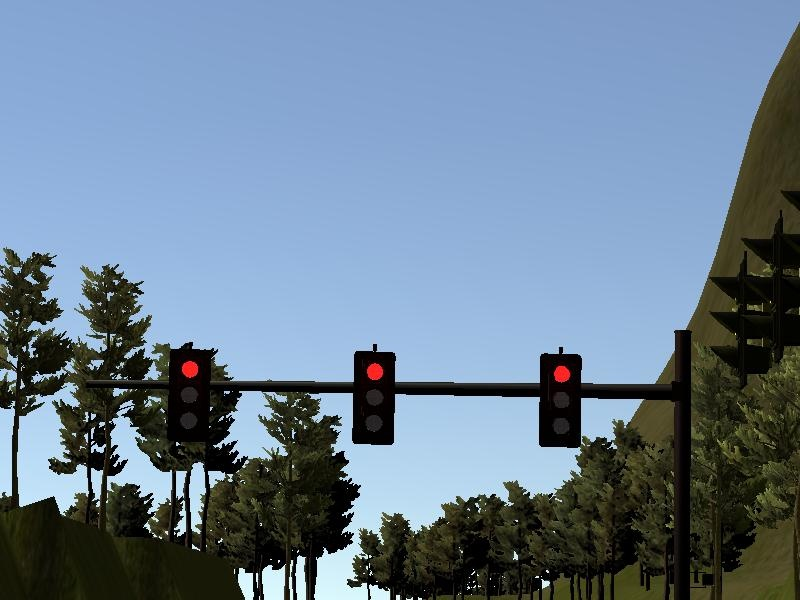red: (350, 350, 397, 445), (166, 348, 213, 443), (535, 352, 582, 447)
